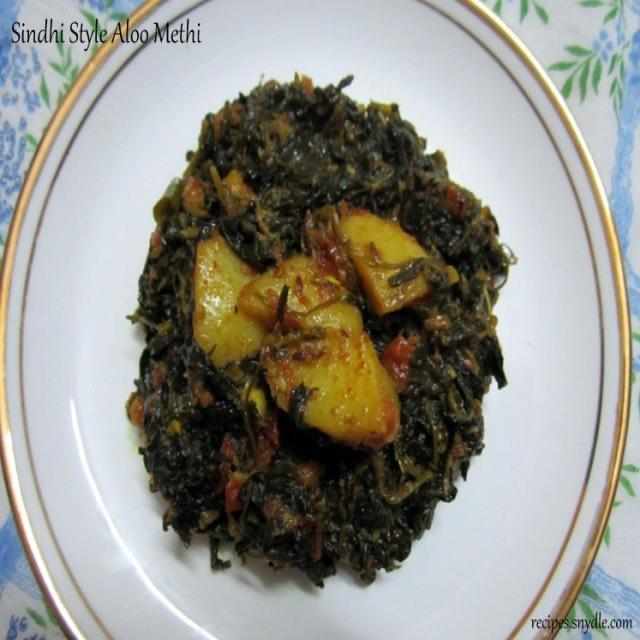Aloo Methi: (138, 77, 503, 578)
